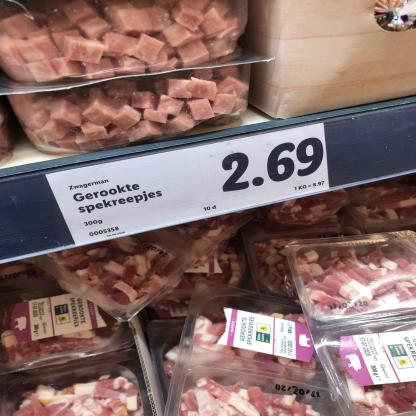prtg: (46, 124, 330, 247)
